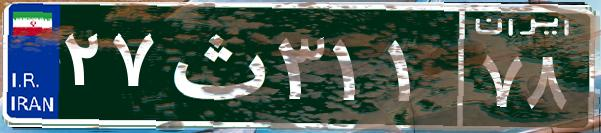1: (385, 28, 445, 110), (330, 28, 385, 110)
2: (57, 26, 110, 107)
3: (273, 28, 330, 110)
7: (475, 38, 525, 113), (110, 28, 158, 105)
8: (525, 38, 570, 115)
ث: (158, 15, 273, 115)
